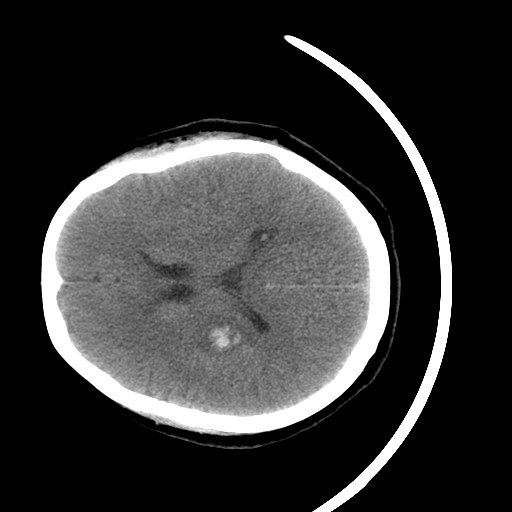a: (184, 309, 261, 361)
